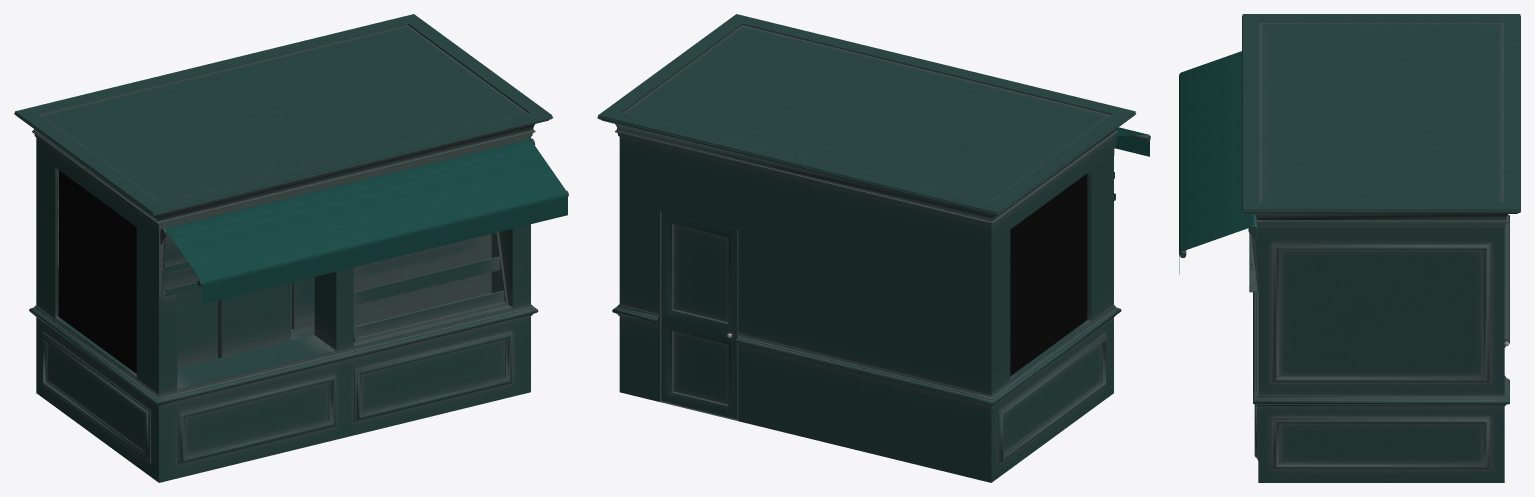
Rendered from Kiosk.obj.
3 renders of one model, left to right at view 1: azimuth 30°, elevation 25°; view 2: azimuth 150°, elevation 25°; view 3: azimuth 270°, elevation 25°, orthographic.
Visible parts, largest first — view 1: NewsKiosk, Glass; view 2: NewsKiosk, Glass; view 3: NewsKiosk.
Boxes of the visible parts, x1,y1,x2,y2 form: NewsKiosk: (14,14,568,482); Glass: (59,170,136,373); NewsKiosk: (597,14,1150,482); Glass: (1010,173,1087,375); NewsKiosk: (1179,14,1520,482).
Size of the model in its own units: 377 by 251 by 278.
2 materials, 2 textured.
